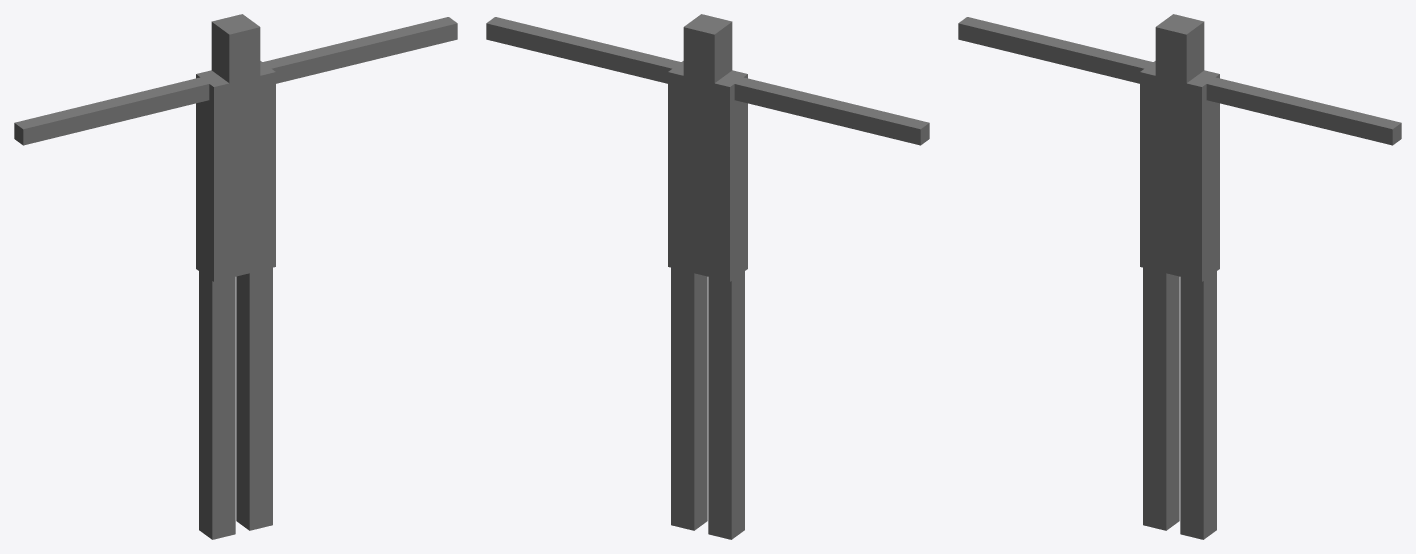
Rendered from TestAnimModel01.FBX.
3 views of the same model, side by side, from view 1: azimuth 30°, elevation 25°; view 2: azimuth 150°, elevation 25°; view 3: azimuth 330°, elevation 25° (orthographic).
Visible parts, largest first — view 1: Box002, Box001, Box005, Box006, Box003, Box004; view 2: Box002, Box001, Box005, Box006, Box003, Box004; view 3: Box002, Box005, Box001, Box003, Box006, Box004.
Boxes of the visible parts, <box> form: Box002: <box>196,61,275,281</box>; Box001: <box>199,271,235,539</box>; Box005: <box>236,267,272,530</box>; Box006: <box>14,77,209,145</box>; Box003: <box>263,17,457,83</box>; Box004: <box>211,14,260,83</box>; Box002: <box>668,61,747,281</box>; Box001: <box>708,271,744,539</box>; Box005: <box>671,267,707,530</box>; Box006: <box>734,77,929,145</box>; Box003: <box>486,17,680,83</box>; Box004: <box>683,14,732,83</box>; Box002: <box>1140,61,1219,281</box>; Box005: <box>1180,271,1216,539</box>; Box001: <box>1143,267,1179,530</box>; Box003: <box>1206,77,1401,145</box>; Box006: <box>958,17,1152,83</box>; Box004: <box>1155,14,1204,83</box>.
Size of the model in its own units: 140 by 10 by 155.
Materials: 1 (1 with a texture image).
